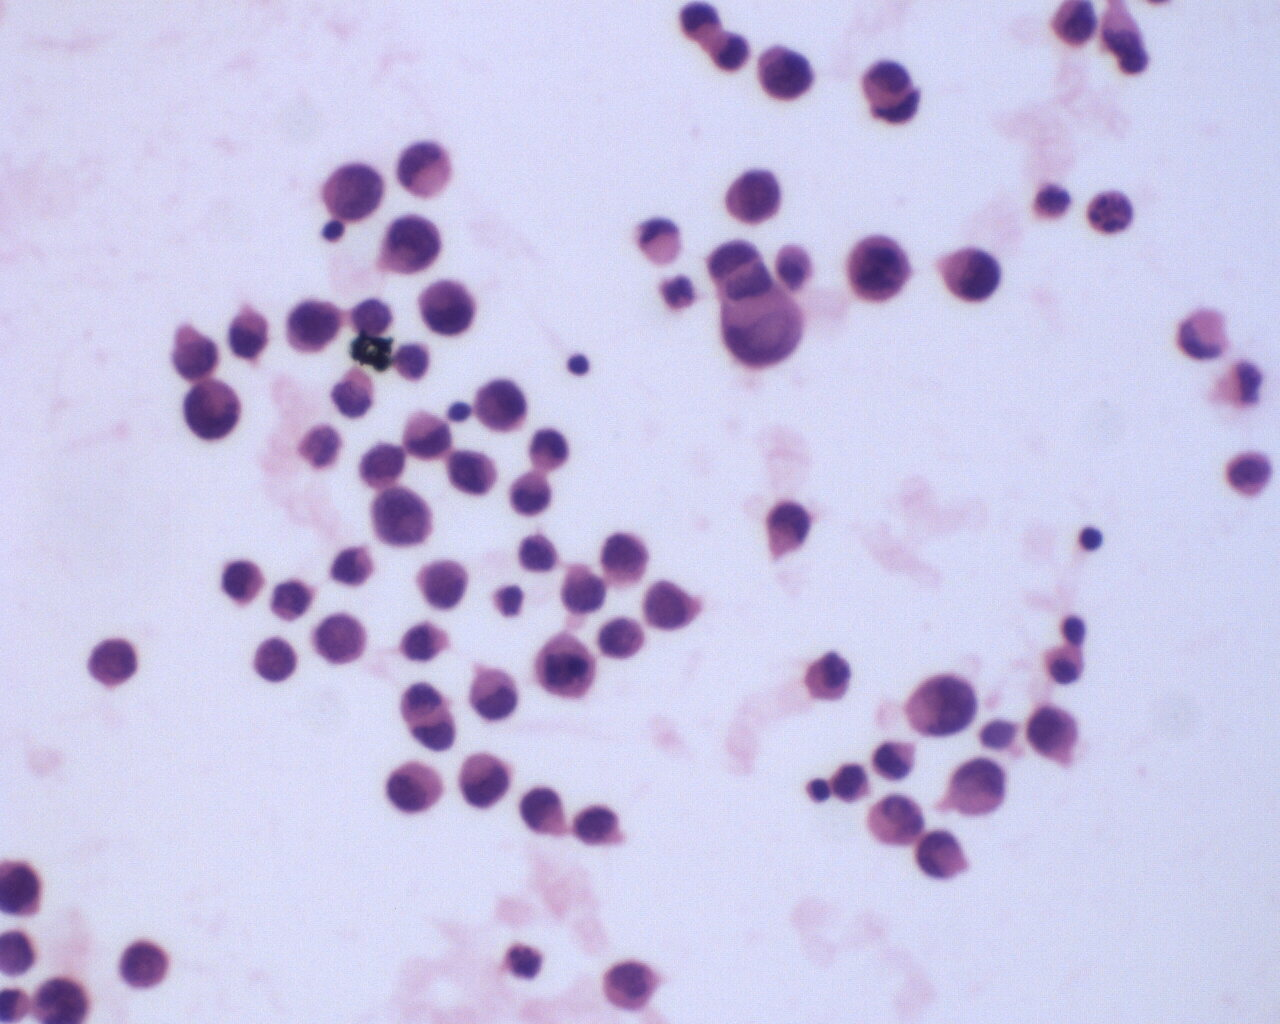ab: (905, 665, 980, 741), (845, 230, 916, 306), (530, 626, 596, 702), (319, 155, 387, 228), (365, 486, 438, 550), (1025, 702, 1091, 770), (180, 377, 243, 446), (414, 274, 480, 340), (381, 211, 442, 280), (939, 240, 1004, 304), (720, 165, 785, 229), (948, 755, 1013, 819), (468, 370, 533, 433), (279, 292, 342, 355), (754, 39, 814, 101), (457, 751, 515, 812), (112, 934, 169, 994), (315, 604, 368, 668), (416, 558, 475, 614), (443, 444, 498, 503), (602, 958, 664, 1010), (911, 830, 971, 882), (88, 635, 143, 691), (643, 577, 699, 631), (596, 614, 650, 664)
histo: (635, 213, 686, 269)
lymph: (1077, 520, 1109, 555), (563, 353, 595, 381)
meso: (385, 752, 447, 818), (467, 660, 520, 722)
